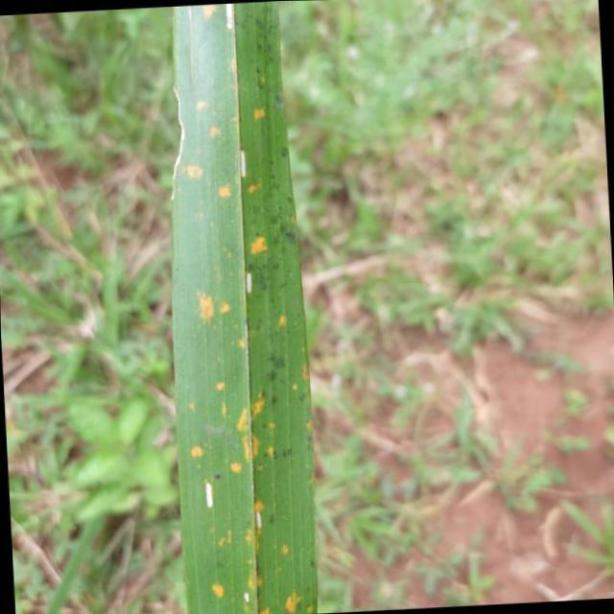Kalium: (168, 3, 329, 614)
